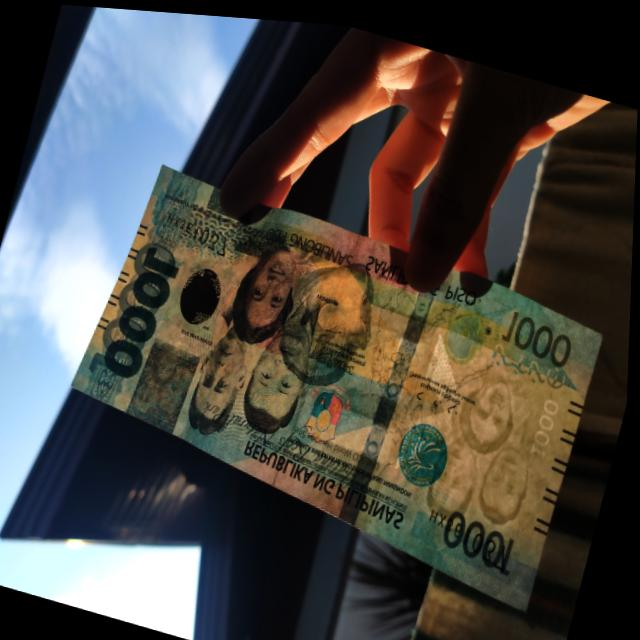concealed_value: (125, 332, 205, 434)
optically_variable_device: (165, 233, 240, 340)
security_thread: (339, 283, 438, 518)
see_through_mark: (486, 329, 577, 388)
value_watermark: (523, 374, 565, 456)
watermark: (419, 349, 555, 530)
